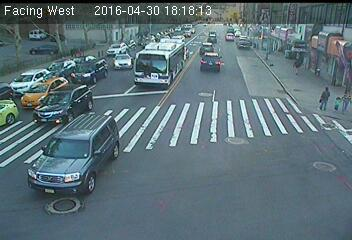neg: (184, 155, 216, 198), (276, 114, 300, 146), (169, 67, 188, 92), (136, 111, 155, 136), (111, 100, 128, 124), (170, 22, 187, 45), (232, 68, 248, 90), (121, 22, 136, 42), (41, 161, 56, 180), (220, 135, 234, 154), (194, 58, 208, 76), (158, 160, 172, 178), (237, 28, 251, 46), (93, 168, 106, 186), (127, 61, 140, 78), (84, 93, 96, 110), (213, 101, 225, 117), (252, 132, 262, 145), (217, 34, 224, 44), (200, 32, 206, 40), (176, 113, 180, 119)
pos: (312, 81, 337, 114), (335, 83, 351, 111), (288, 54, 306, 78), (331, 92, 345, 111)
